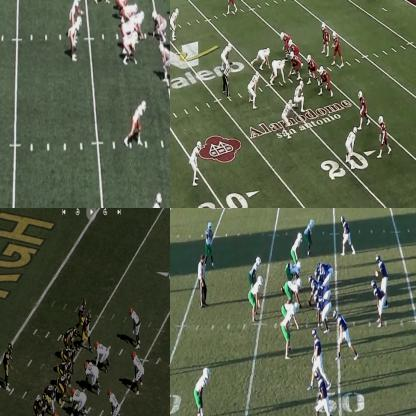CENTER: (130, 10, 146, 36), (288, 51, 302, 78), (57, 375, 72, 399), (308, 275, 315, 305)
DB: (194, 367, 212, 415), (187, 140, 200, 185), (282, 98, 294, 134), (304, 220, 314, 256), (347, 126, 356, 165), (207, 221, 212, 267)
LB: (284, 303, 300, 358), (251, 276, 264, 324), (130, 351, 144, 392), (130, 306, 140, 347), (249, 72, 259, 107), (248, 256, 261, 282), (108, 390, 121, 415), (291, 233, 301, 261), (170, 10, 178, 40), (222, 41, 231, 64)
QB: (1, 346, 12, 394), (376, 254, 390, 291), (332, 30, 342, 66), (69, 0, 82, 20)
SKILL: (311, 367, 330, 415), (308, 333, 323, 390), (334, 307, 351, 355), (128, 100, 146, 144), (372, 280, 386, 325), (376, 116, 392, 154), (68, 21, 82, 61), (340, 215, 351, 254), (144, 190, 168, 207), (359, 91, 370, 126), (82, 310, 91, 342), (321, 22, 330, 52), (79, 296, 87, 321), (66, 327, 78, 343), (224, 0, 238, 13)
